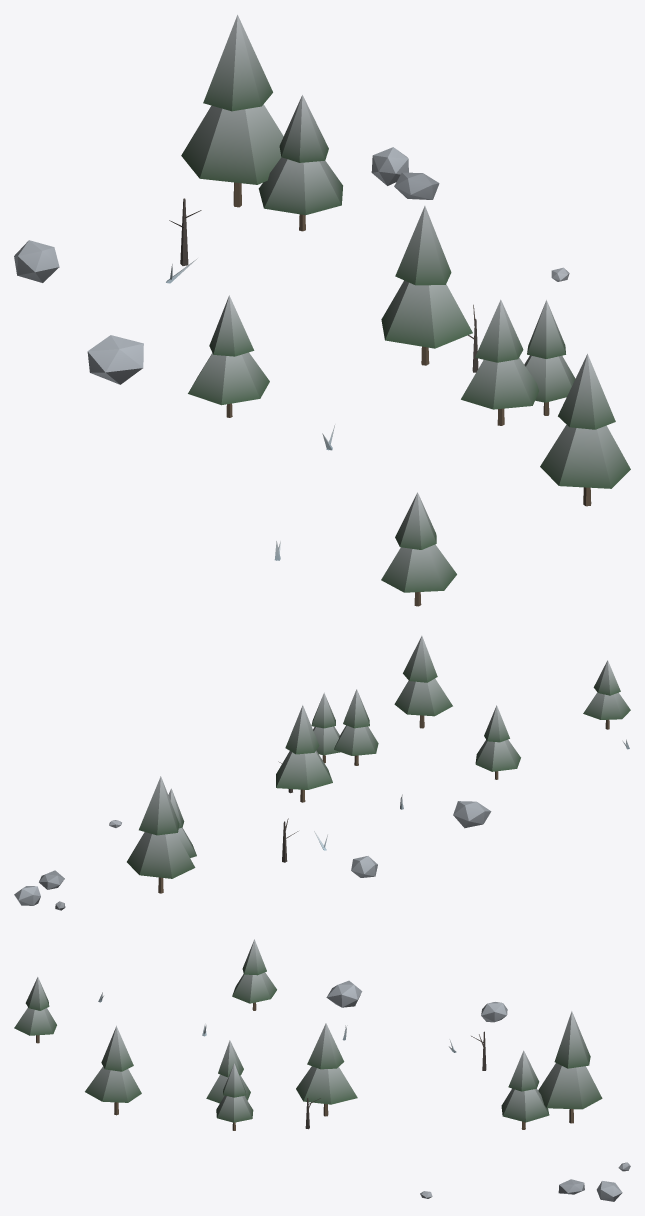
Rendered from frost_land_scatter_c22_10_lod1.glb.
The picture shows the model from 3 angles, top to bottom: view 1: azimuth 30°, elevation 25°; view 2: azimuth 150°, elevation 25°; view 3: azimuth 270°, elevation 25°; orthographic projection. The views are drawn at different scales.
Visible parts, largest first — view 1: frost_land_scatter_c22_10_lod1; view 2: frost_land_scatter_c22_10_lod1; view 3: frost_land_scatter_c22_10_lod1.
Boxes of the visible parts, left/top/right/bottom form: frost_land_scatter_c22_10_lod1: left=14, top=15, right=630, bottom=606; frost_land_scatter_c22_10_lod1: left=14, top=636, right=630, bottom=910; frost_land_scatter_c22_10_lod1: left=14, top=939, right=630, bottom=1201.
Bounding box in the file's own units: 49.67 × 19.3 × 79.04.
